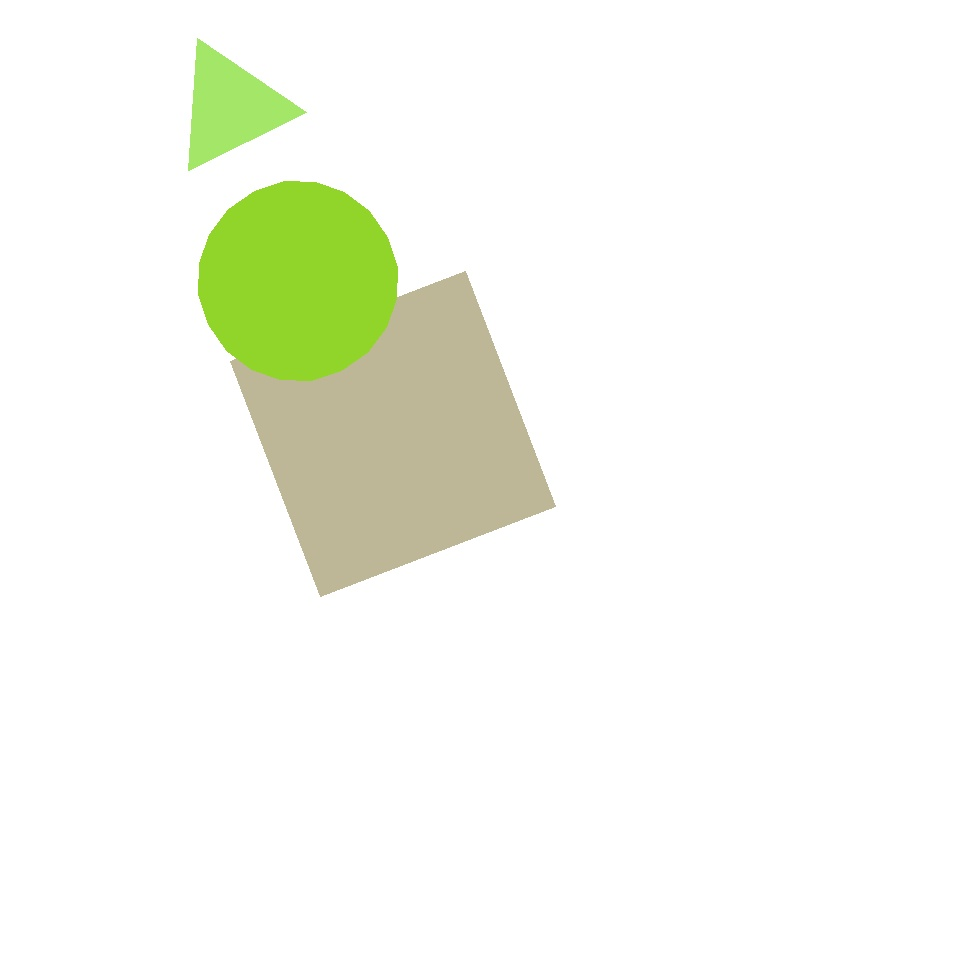circle: (619, 673, 853, 907), (172, 41, 290, 173)
square: (230, 272, 556, 596), (248, 112, 537, 402)
triangle: (198, 182, 398, 380)
